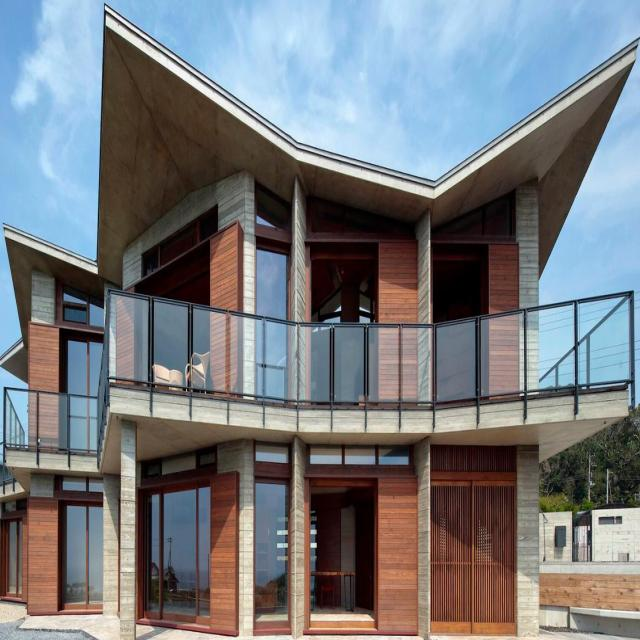Railing: (4, 290, 633, 453)
door: (429, 477, 514, 637), (145, 490, 211, 621), (61, 476, 104, 606), (255, 473, 290, 622), (5, 514, 22, 599)
wall: (0, 4, 638, 639)
windows: (258, 246, 292, 321), (66, 335, 106, 392)
